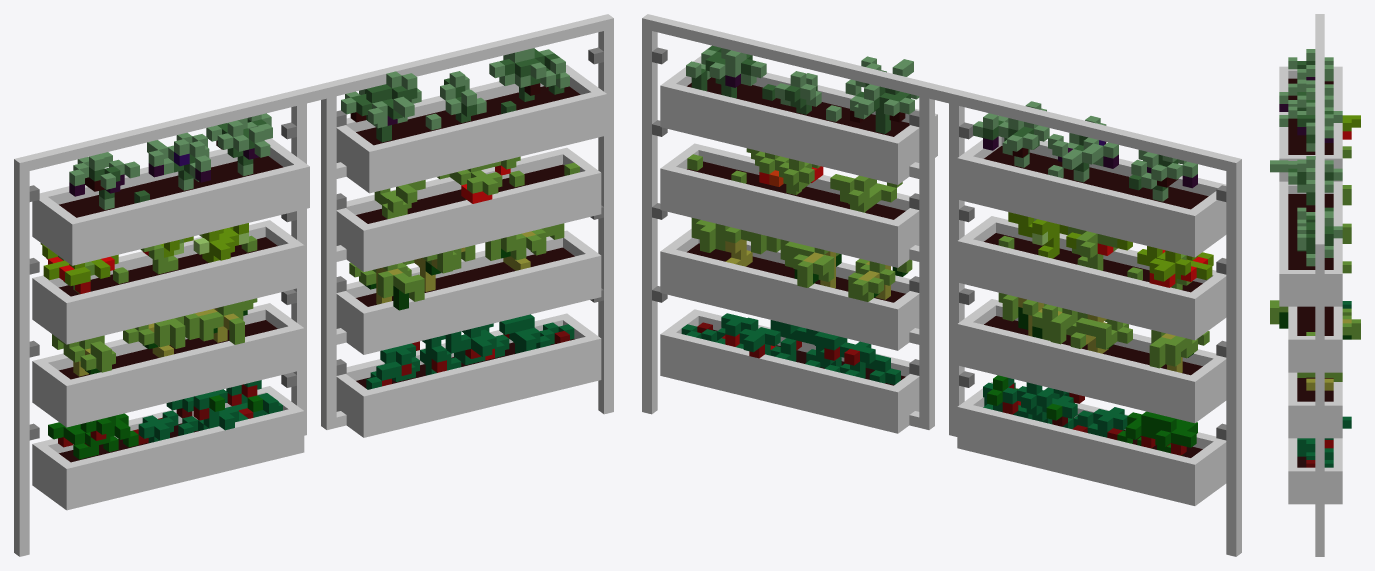
The model's file is Green House Plant Wall 5.obj.
The picture shows the model from 3 angles, left to right: view 1: azimuth 30°, elevation 25°; view 2: azimuth 150°, elevation 25°; view 3: azimuth 270°, elevation 25°; orthographic projection. The views are drawn at different scales.
Size of the model in its own units: 60 by 38 by 10.
Materials: 1 (1 with a texture image).
